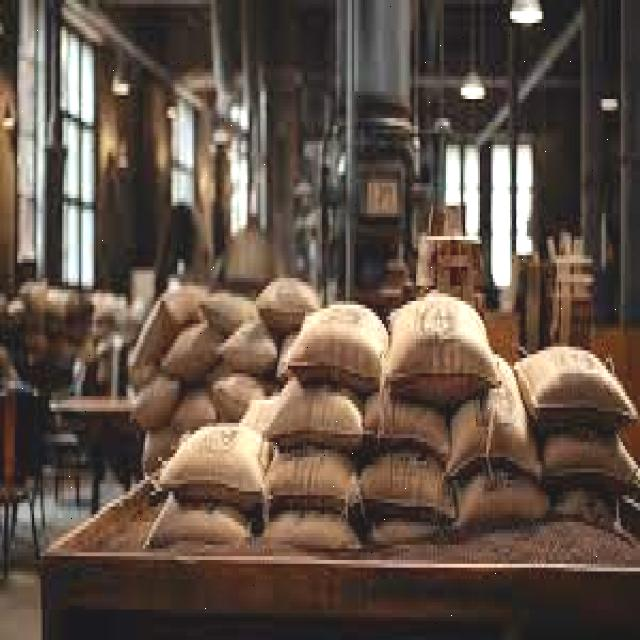sack: (383, 339, 501, 401), (357, 451, 459, 519), (359, 387, 452, 461), (441, 425, 550, 487), (285, 321, 383, 389), (543, 437, 640, 505), (527, 374, 640, 431), (151, 449, 264, 503), (265, 453, 362, 511), (265, 391, 362, 447), (256, 512, 365, 560), (139, 509, 256, 552)
